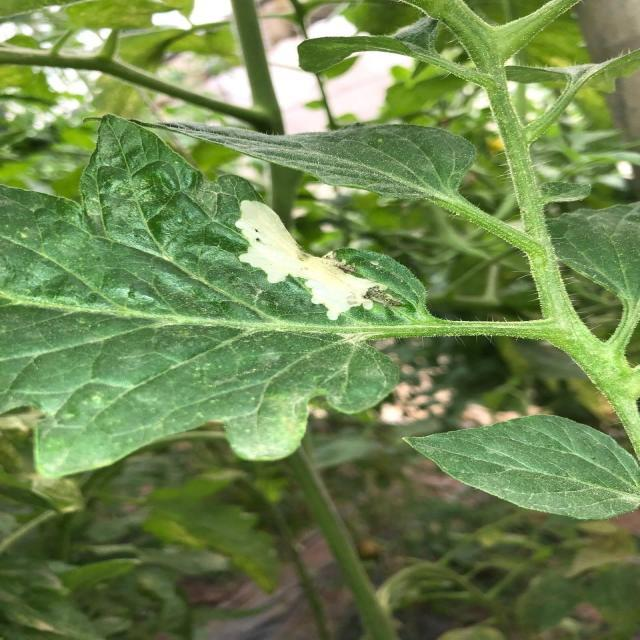Tuta absoluta: (213, 194, 408, 346)
